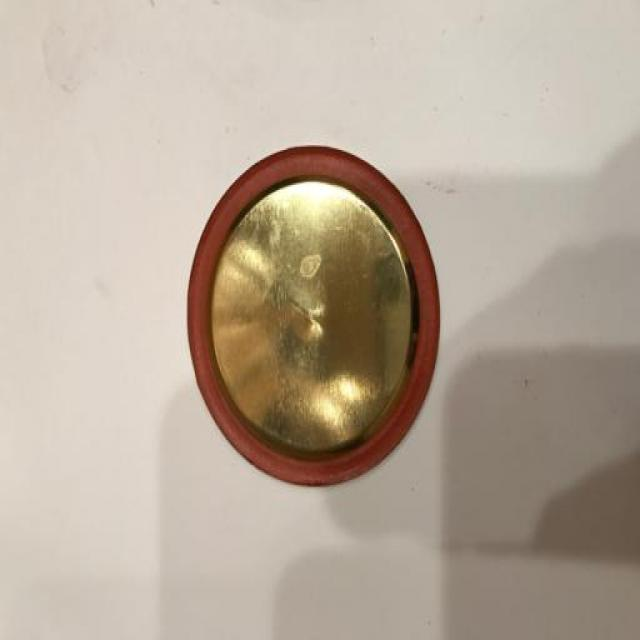metel: (176, 96, 471, 484)
